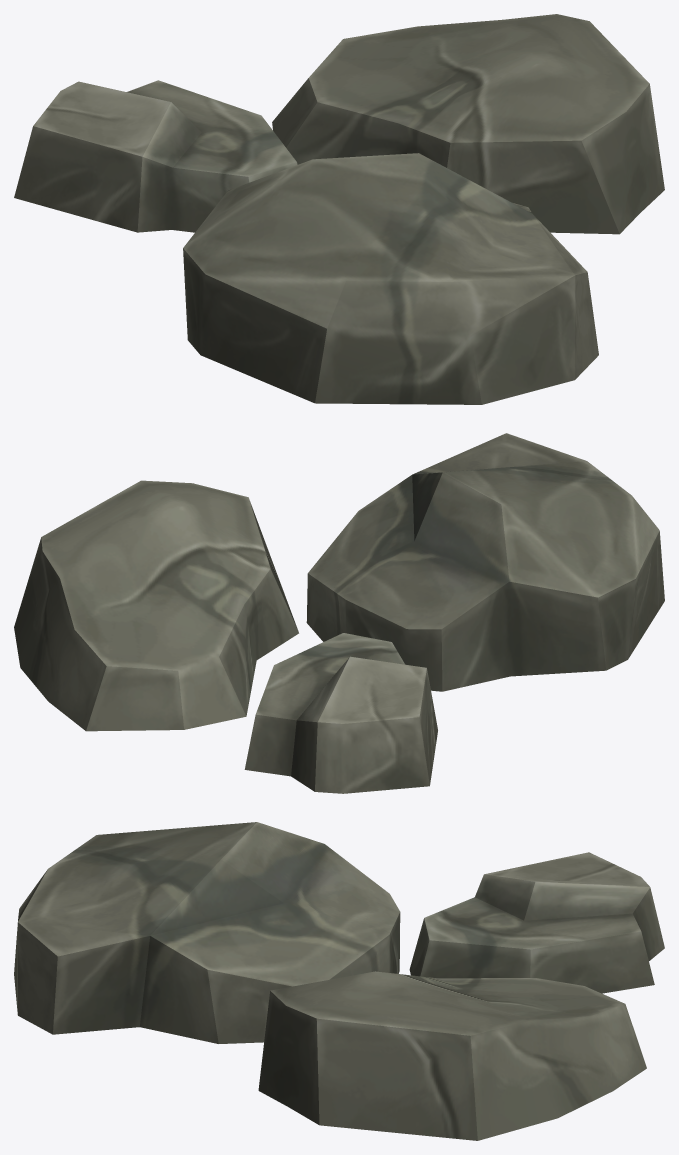
The model's file is Rock_03.fbx.
3 renders of one model, top to bottom at view 1: azimuth 30°, elevation 25°; view 2: azimuth 150°, elevation 25°; view 3: azimuth 270°, elevation 25°, orthographic. The views are drawn at different scales.
Parts seen in each view (by area): view 1: polySurface585; view 2: polySurface585; view 3: polySurface585.
Part boxes in pixels (x1,y1,x2,y2): polySurface585: (14,14,664,404); polySurface585: (14,433,664,793); polySurface585: (14,822,664,1140).
Size of the model in its own units: 127 by 34.01 by 145.
1 material, 1 textured.
